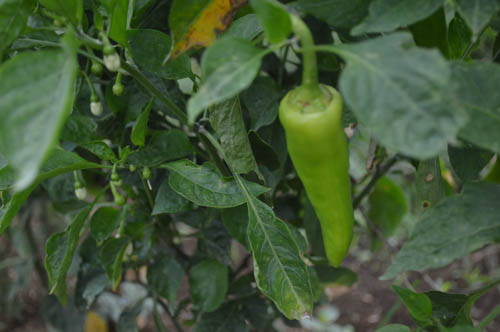ChiliPepper: (275, 88, 358, 263)
